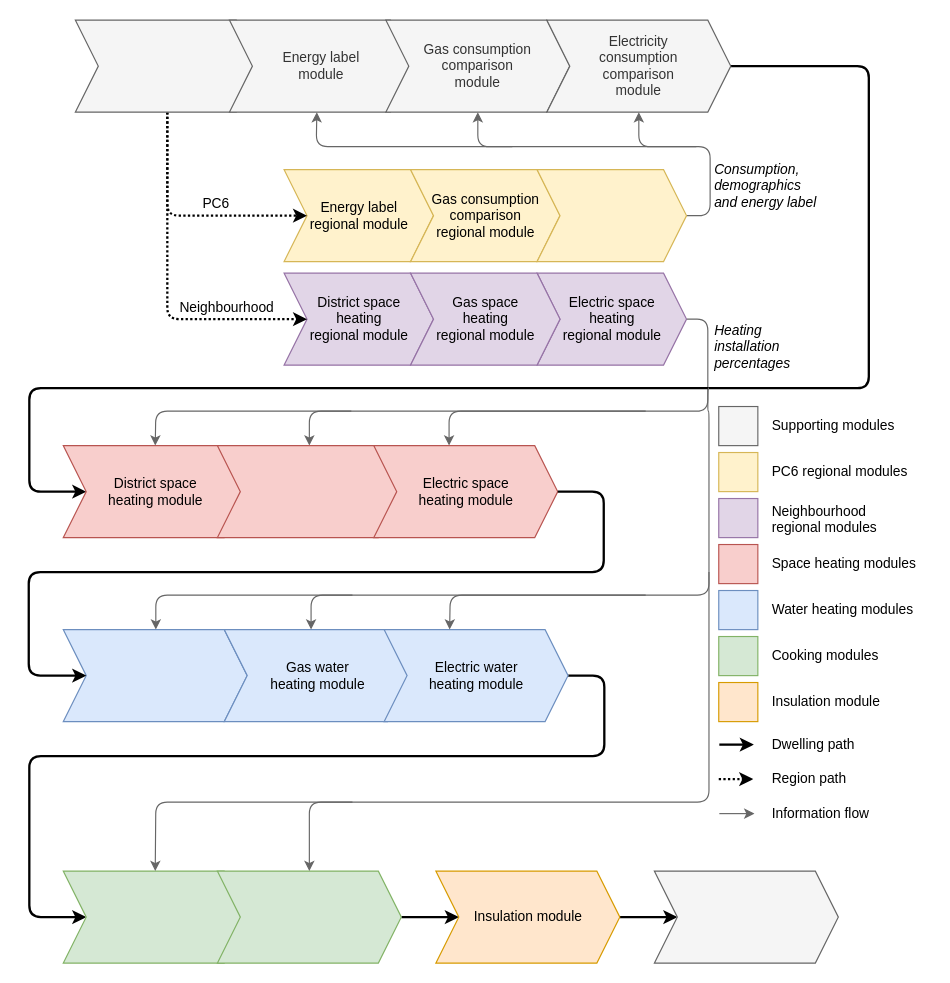
Image size: 950x983. Some labels were removed from this diagram. Here are the shapes that lost their labels. From the top down, the centre of each, then its label:
point (166, 65): Regions module
point (611, 215): Electricity consumption comparison regional module
point (308, 491): Gas space heating module
point (154, 675): District water heating module
point (154, 916): Gas cooking module
point (308, 916): Electric cooking module
point (745, 916): Sampling module
